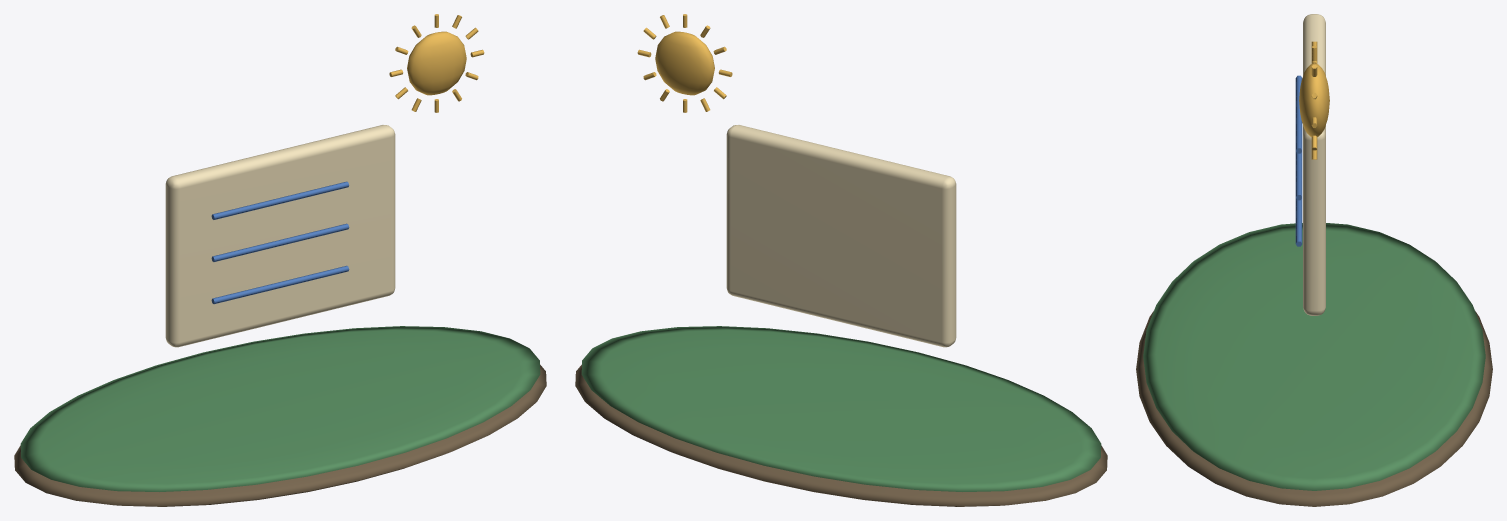
Rendered from white.glb.
3 views of the same model, side by side, from view 1: azimuth 30°, elevation 25°; view 2: azimuth 150°, elevation 25°; view 3: azimuth 270°, elevation 25° (orthographic). The views are drawn at different scales.
Parts seen in each view (by area): view 1: white_surface_01, white_surface_02, white_surface_00, white_surface_04, white_surface_03; view 2: white_surface_01, white_surface_02, white_surface_00, white_surface_04; view 3: white_surface_01, white_surface_00, white_surface_02, white_surface_04, white_surface_03.
Boxes of the visible parts, <box> form: white_surface_01: <box>20,326,540,491</box>; white_surface_02: <box>165,125,395,347</box>; white_surface_00: <box>14,364,546,506</box>; white_surface_04: <box>389,14,484,112</box>; white_surface_03: <box>211,181,349,304</box>; white_surface_01: <box>581,326,1101,491</box>; white_surface_02: <box>726,125,956,347</box>; white_surface_00: <box>575,364,1107,506</box>; white_surface_04: <box>637,14,732,112</box>; white_surface_01: <box>1143,223,1485,490</box>; white_surface_00: <box>1136,311,1492,506</box>; white_surface_02: <box>1303,14,1325,315</box>; white_surface_04: <box>1299,41,1329,159</box>; white_surface_03: <box>1295,75,1302,246</box>.
Size of the model in its own units: 4.56 by 3.27 by 2.5.
